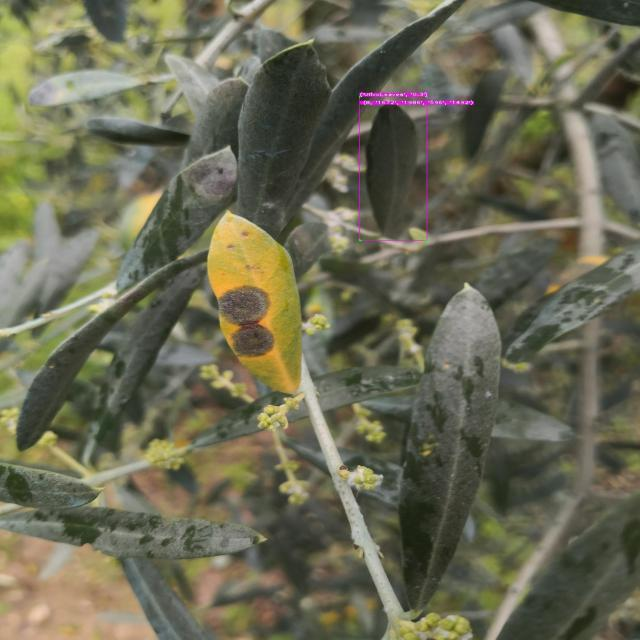OlivePeacockSpot: (208, 212, 302, 394)
